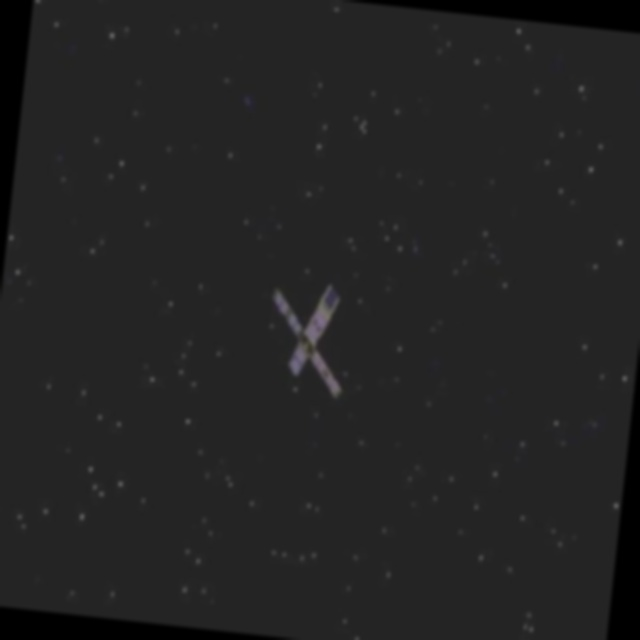medium_debris: (251, 268, 371, 404)
